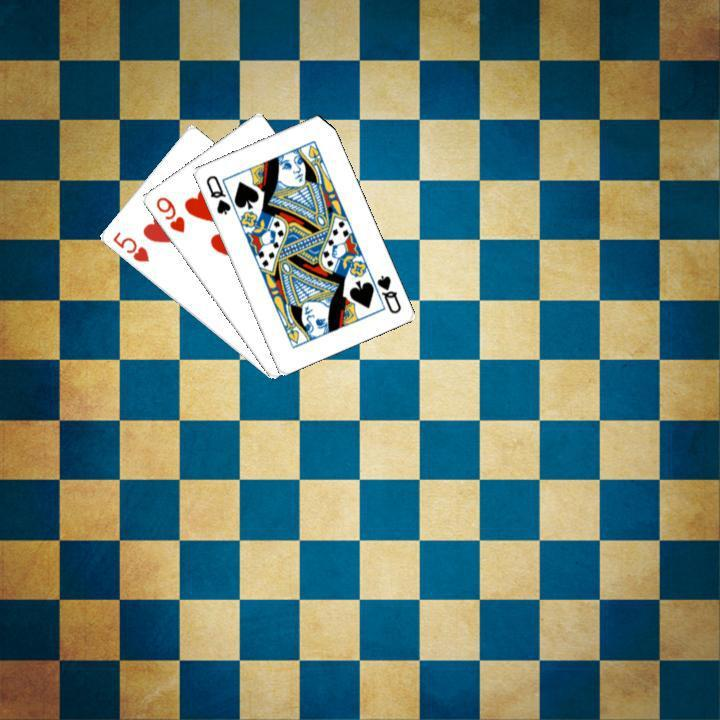5: (108, 227, 151, 264)
9: (151, 192, 187, 235)
Q: (201, 171, 232, 217), (372, 271, 403, 316)
